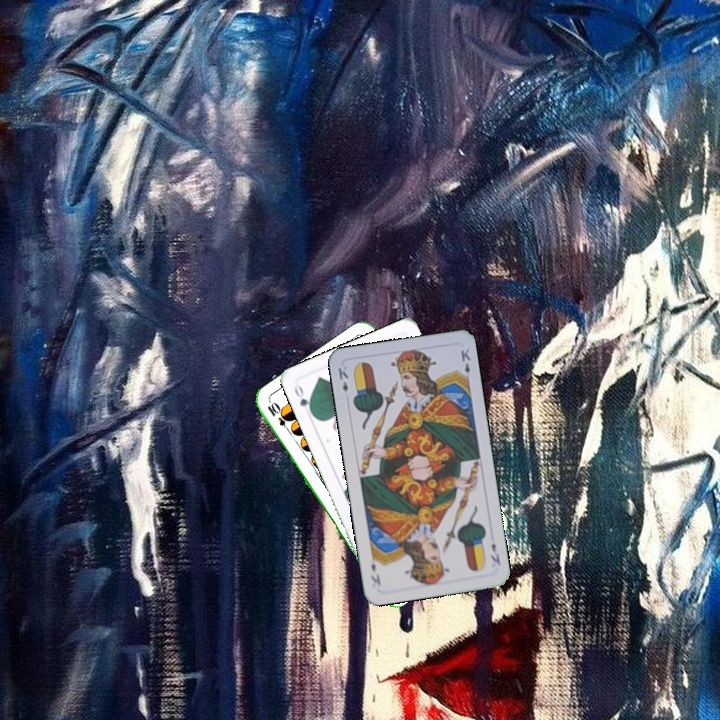E10: (263, 398, 294, 435)
EK: (334, 362, 351, 395), (486, 539, 503, 567)
GO: (290, 380, 316, 418)
